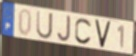0: (18, 8, 34, 38)
1: (117, 25, 124, 50)
C: (74, 17, 93, 46)
J: (56, 15, 71, 43)
U: (36, 10, 54, 41)
V: (94, 19, 112, 49)
